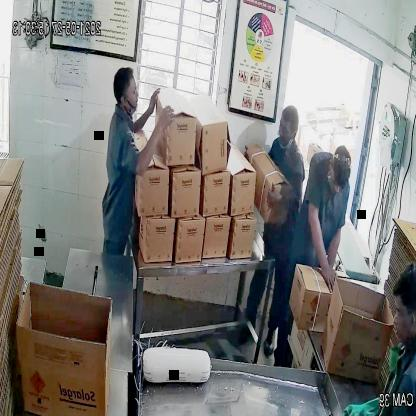no_goggles: (120, 82, 142, 102)
